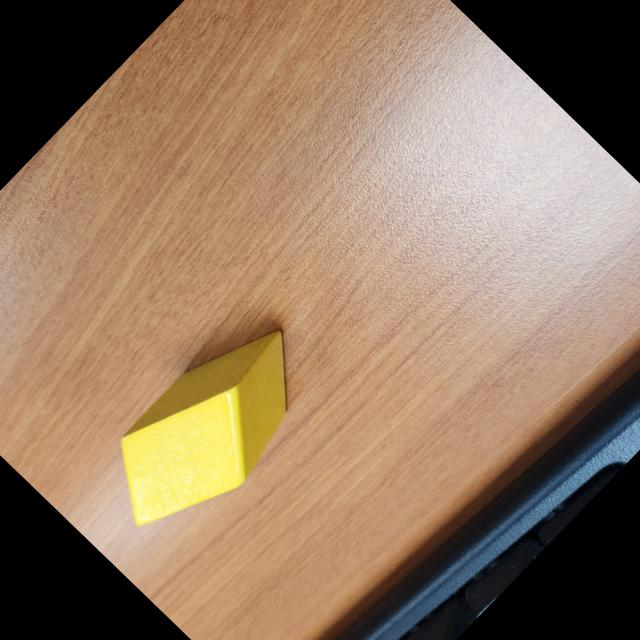yellow: (83, 302, 338, 560)
